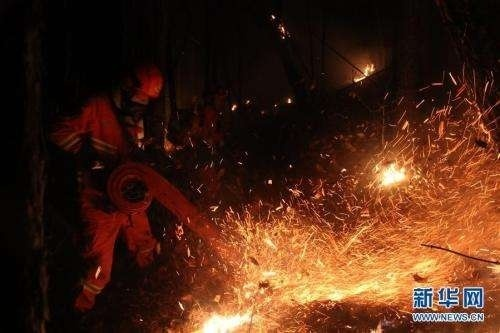fire: (371, 158, 410, 189), (350, 61, 377, 84)
